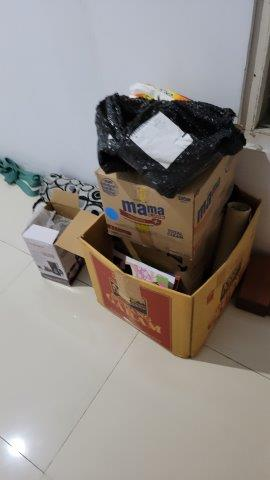kardus: (83, 170, 262, 359), (23, 191, 82, 286)
kertas: (130, 111, 192, 169)
